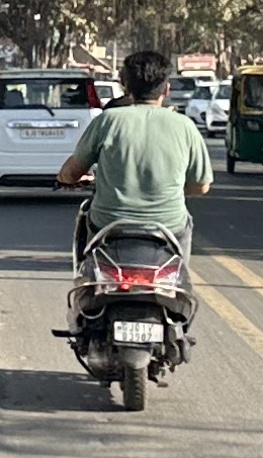BikeWithRider: (44, 44, 220, 416)
NoHelmet: (110, 45, 178, 111)
